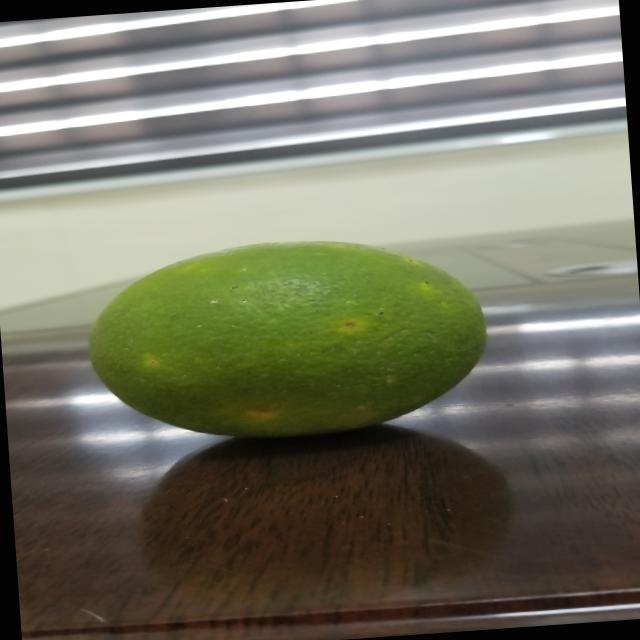agrume: (83, 226, 491, 454)
